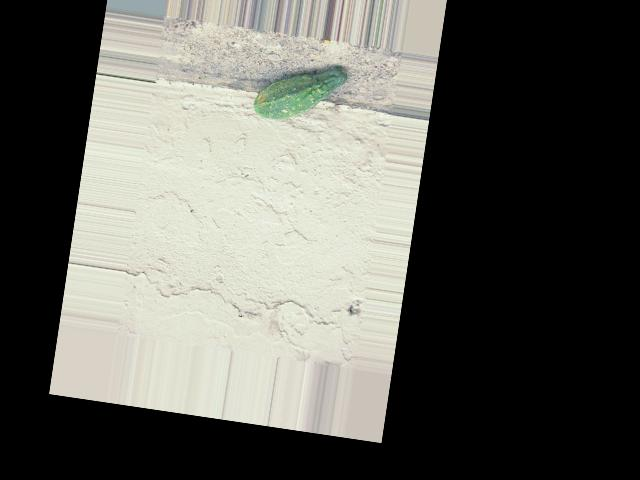cucumber: (251, 56, 347, 129)
